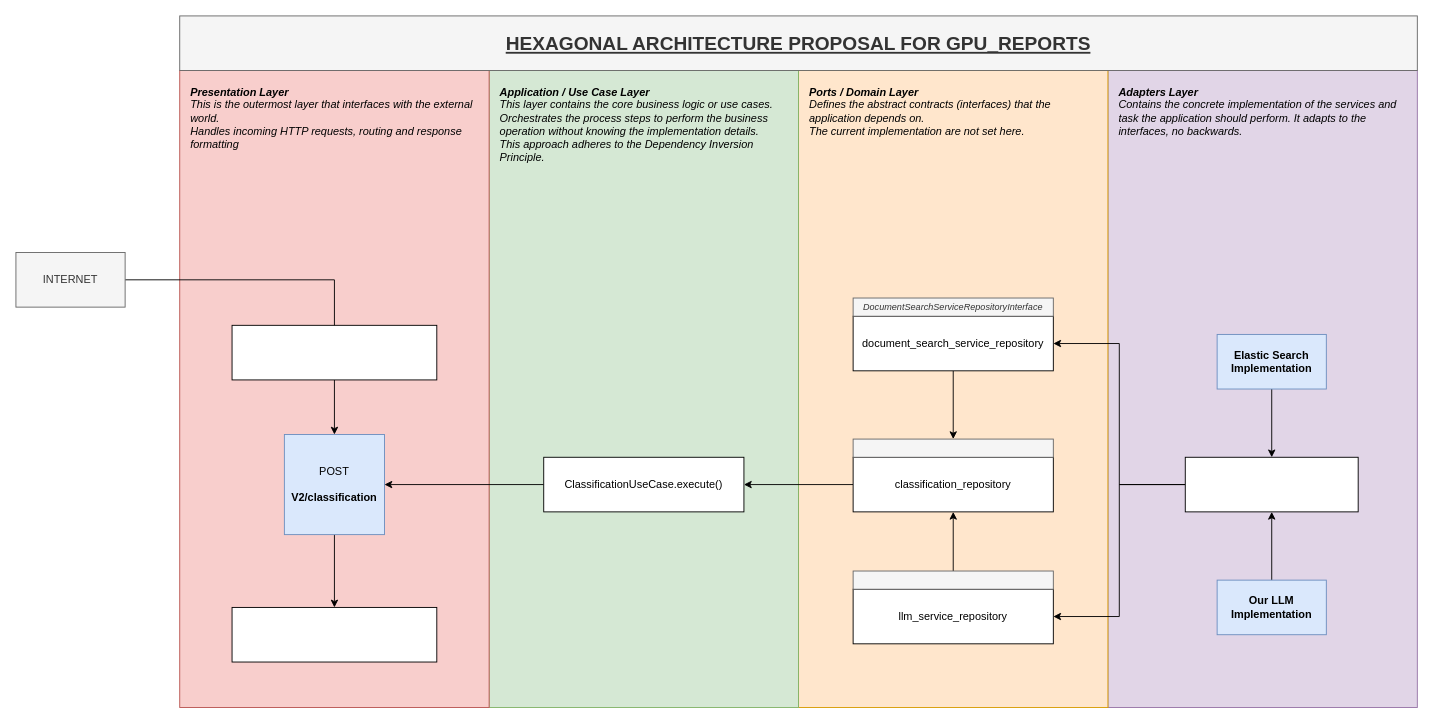
Image size: 1433x723. Some labels were removed from this diagram. Here are the shapes that lost their labels. From the top down, the centre of each, then its label:
pixel 334 352: ClassificationRequest
pixel 952 447: ClassificationRepositoryInterface
pixel 1271 484: build_classification_repository
pixel 952 579: LLMServiceRepositoryInterface
pixel 334 634: ClassificationResponse
